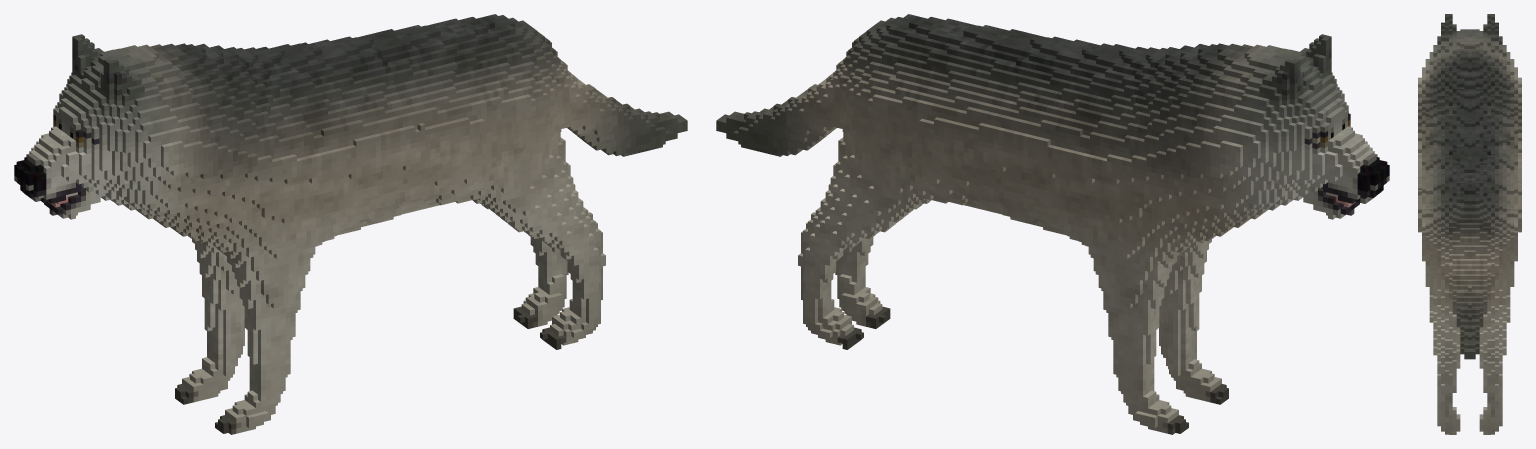
Rendered from colored-voxels.glb.
3 views of the same model, side by side, from view 1: azimuth 30°, elevation 25°; view 2: azimuth 150°, elevation 25°; view 3: azimuth 270°, elevation 25° (orthographic). The views are drawn at different scales.
Visible parts, largest first — view 1: geometry_0; view 2: geometry_0; view 3: geometry_0.
Boxes of the visible parts, box(x1,y1,x2,y2) form: geometry_0: box(14, 14, 687, 434); geometry_0: box(716, 14, 1389, 434); geometry_0: box(1418, 14, 1521, 434).
Size of the model in its own units: 1.68 by 0.95 by 0.3375.
